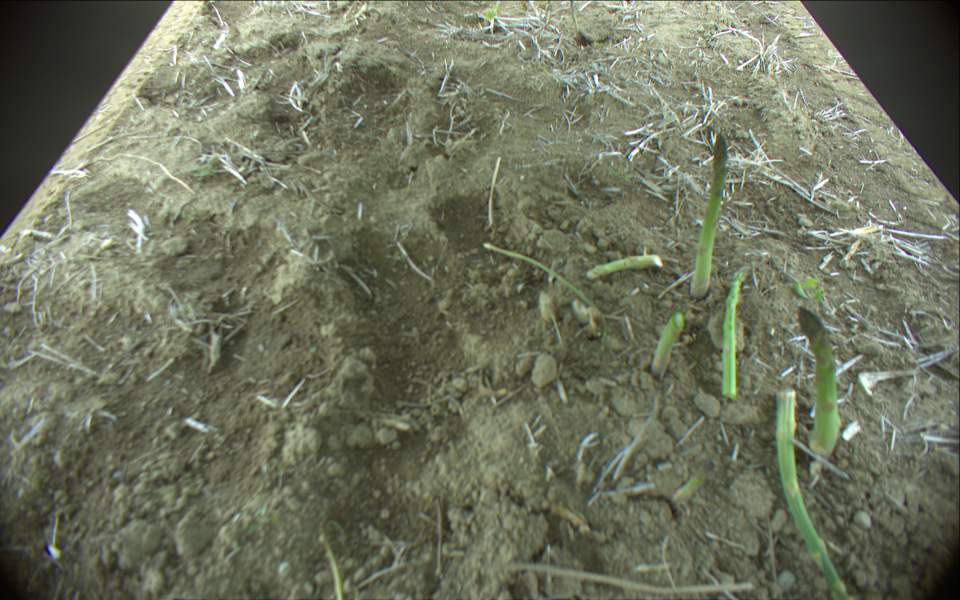aspa: (777, 389, 856, 600), (486, 243, 614, 328), (686, 128, 733, 300), (797, 306, 842, 460), (723, 262, 751, 400), (585, 255, 667, 282), (652, 309, 683, 380), (568, 1, 582, 36)
